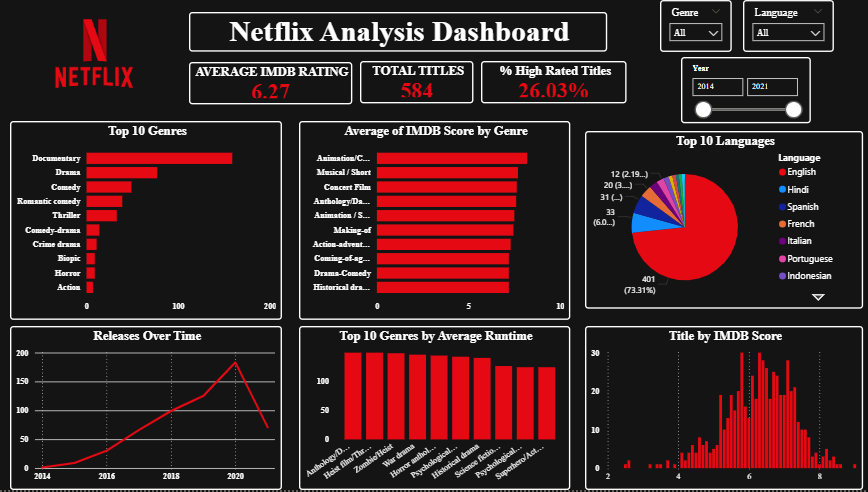

What the dashboard file says about the page in this screenshot:
{"tool":"powerbi","page":{"name":"Page 1","canvas":[1280,720],"ordinal":0},"visuals":[{"type":"textbox","title":"Netflix Analysis Dashboard","box":[280,20,612.3,58.5],"z":0},{"type":"card","title":"TOTAL TITLES","fields":{"Values":["Count(NetflixOriginals.Title)"]},"box":[529.1,92.4,166.3,62.2],"z":1000},{"type":"card","title":"AVERAGE IMDB RATING","fields":{"Values":["Avg(NetflixOriginals.IMDB Score)"]},"box":[278.8,94.1,238.5,62.2],"z":2000},{"type":"card","title":"% High Rated Titles ","fields":{"Values":["NetflixOriginals.High Rated %"]},"box":[707.2,92.4,213.3,62.2],"z":3000},{"type":"slicer","fields":{"Values":["NetflixOriginals.Genre"]},"box":[969.5,3.5,105.2,75.9],"z":4000},{"type":"slicer","fields":{"Values":["NetflixOriginals.Language"]},"box":[1090.2,3.5,132.8,75.9],"z":5000},{"type":"slicer","fields":{"Values":["NetflixOriginals.Premiere.Variation.Date Hierarchy.Year"]},"box":[998.8,86.3,189.8,96.6],"z":6000},{"type":"clusteredBarChart","title":"Top 10 Genres","fields":{"Category":["NetflixOriginals.Genre"],"Y":["CountNonNull(NetflixOriginals.Title)"]},"box":[17.2,179.3,398.3,291.4],"z":7000},{"type":"clusteredBarChart","fields":{"Category":["NetflixOriginals.Genre"],"Y":["Avg(NetflixOriginals.IMDB Score)"]},"box":[440,180,397.1,291.4],"z":8000},{"type":"lineChart","title":"Releases Over Time","fields":{"Category":["NetflixOriginals.Premiere.Variation.Date Hierarchy.Year"],"Y":["CountNonNull(NetflixOriginals.Title)"]},"box":[17,480,398,240],"z":9000},{"type":"columnChart","title":"Top 10 Genres by Average Runtime","fields":{"Category":["NetflixOriginals.Genre"],"Y":["Avg(NetflixOriginals.Runtime)"]},"box":[440,480,397,240],"z":10000},{"type":"pieChart","title":"Top 10 Languages","fields":{"Category":["NetflixOriginals.Language"],"Y":["CountNonNull(NetflixOriginals.Title)"]},"box":[859.1,194.9,407.1,260.5],"z":11000},{"type":"columnChart","title":"Title by IMDB Score","fields":{"Category":["NetflixOriginals.IMDB Score"],"Y":["CountNonNull(NetflixOriginals.Title)"]},"box":[859,480,407,240],"z":12000},{"type":"image","box":[29.3,86.3,222.4,60],"z":12001},{"type":"image","box":[65.9,0,152.2,124.4],"z":12002}]}

Visuals, with their boxes in screenshot pixels (x1, y1, x2, y2), scaled from the page's 1280x720 canvas onto the 868x492 screenshot:
"Netflix Analysis Dashboard" textbox: <region>190, 14, 605, 54</region>
"TOTAL TITLES" card: <region>359, 63, 472, 106</region>
"AVERAGE IMDB RATING" card: <region>189, 64, 351, 107</region>
"% High Rated Titles " card: <region>480, 63, 624, 106</region>
slicer - NetflixOriginals.Genre: <region>657, 2, 729, 54</region>
slicer - NetflixOriginals.Language: <region>739, 2, 829, 54</region>
slicer - NetflixOriginals.Premiere.Variation.Date Hierarchy.Year: <region>677, 59, 806, 125</region>
"Top 10 Genres" clusteredBarChart: <region>12, 123, 282, 322</region>
clusteredBarChart - NetflixOriginals.Genre x Avg(NetflixOriginals.IMDB Score): <region>298, 123, 568, 322</region>
"Releases Over Time" lineChart: <region>12, 328, 281, 491</region>
"Top 10 Genres by Average Runtime" columnChart: <region>298, 328, 568, 491</region>
"Top 10 Languages" pieChart: <region>583, 133, 859, 311</region>
"Title by IMDB Score" columnChart: <region>583, 328, 859, 491</region>
image: <region>20, 59, 171, 100</region>
image: <region>45, 0, 148, 85</region>
